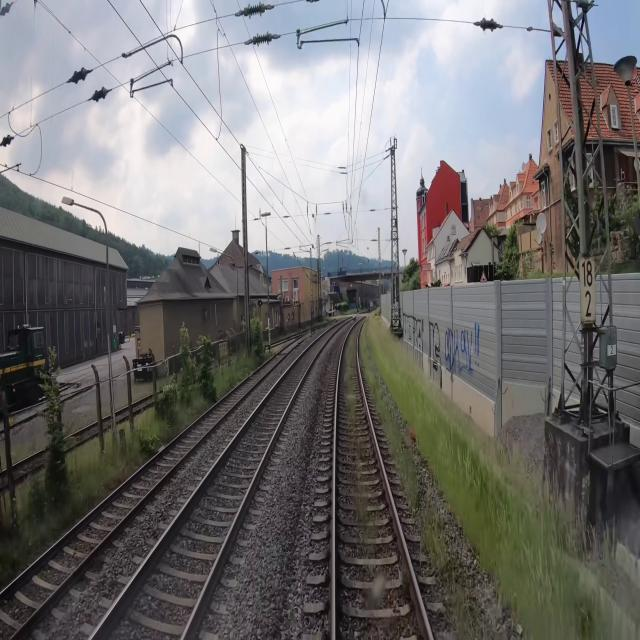Plant: (0, 347, 277, 586), (361, 319, 421, 516), (418, 490, 488, 639), (343, 333, 382, 565), (400, 567, 411, 602)
